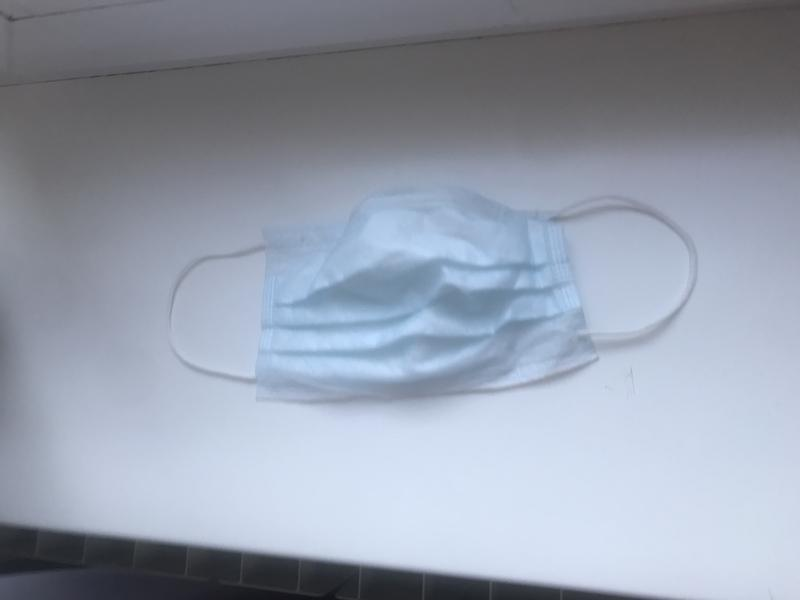medical_mask: (164, 196, 698, 396)
